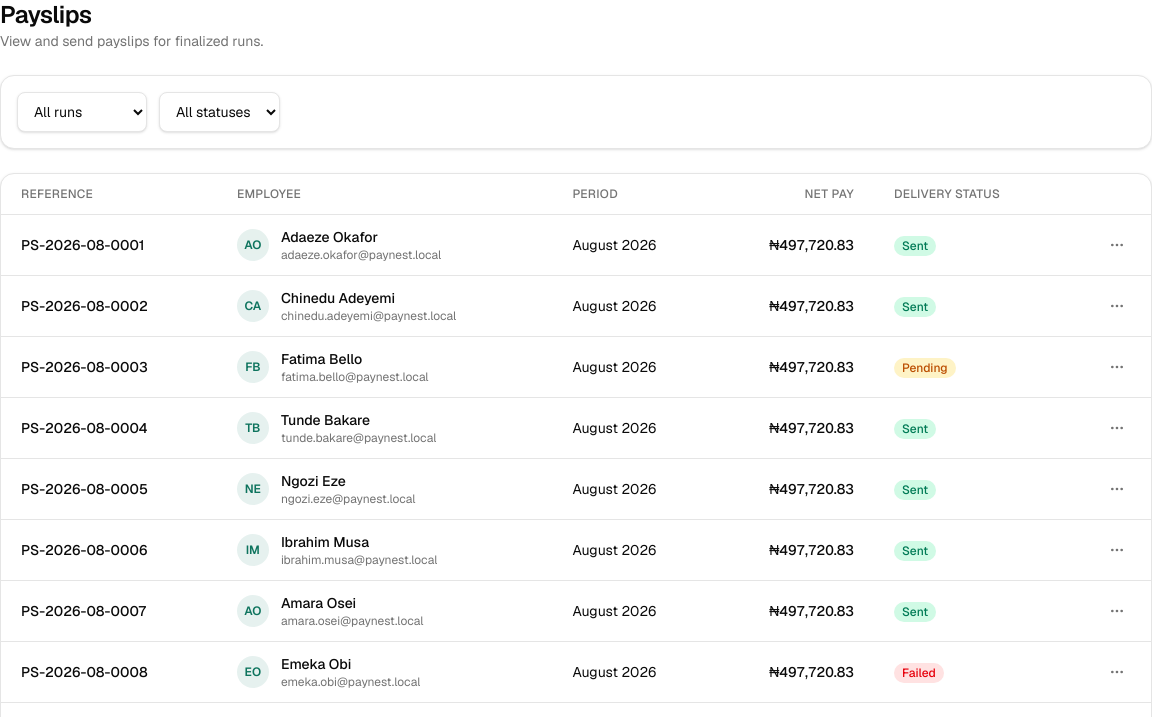
payslips list › clears filters
The image size is (1152, 717).
Select "Sent" in the dropdown named "Filter payslips by delivery status" at x=220, y=112, box top-left (159, 92), bottom-right (280, 132)
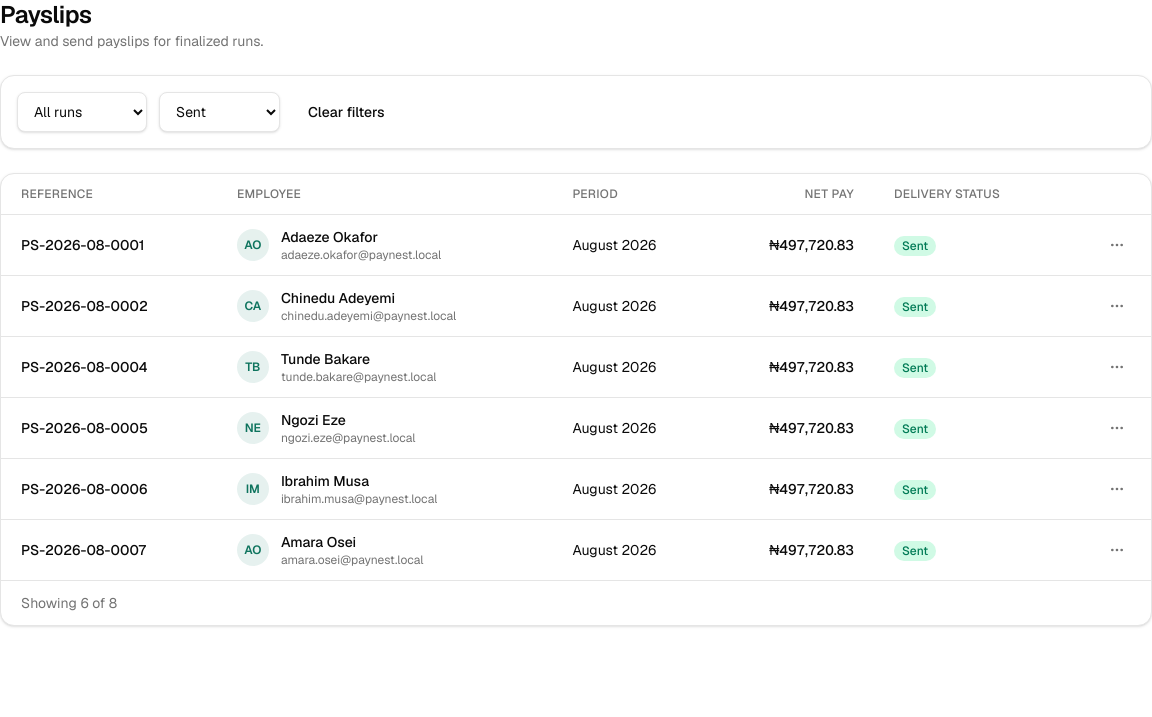
Click the button "Clear filters" at x=346, y=112, box top-left (292, 94), bottom-right (400, 130)
(page scrolled)
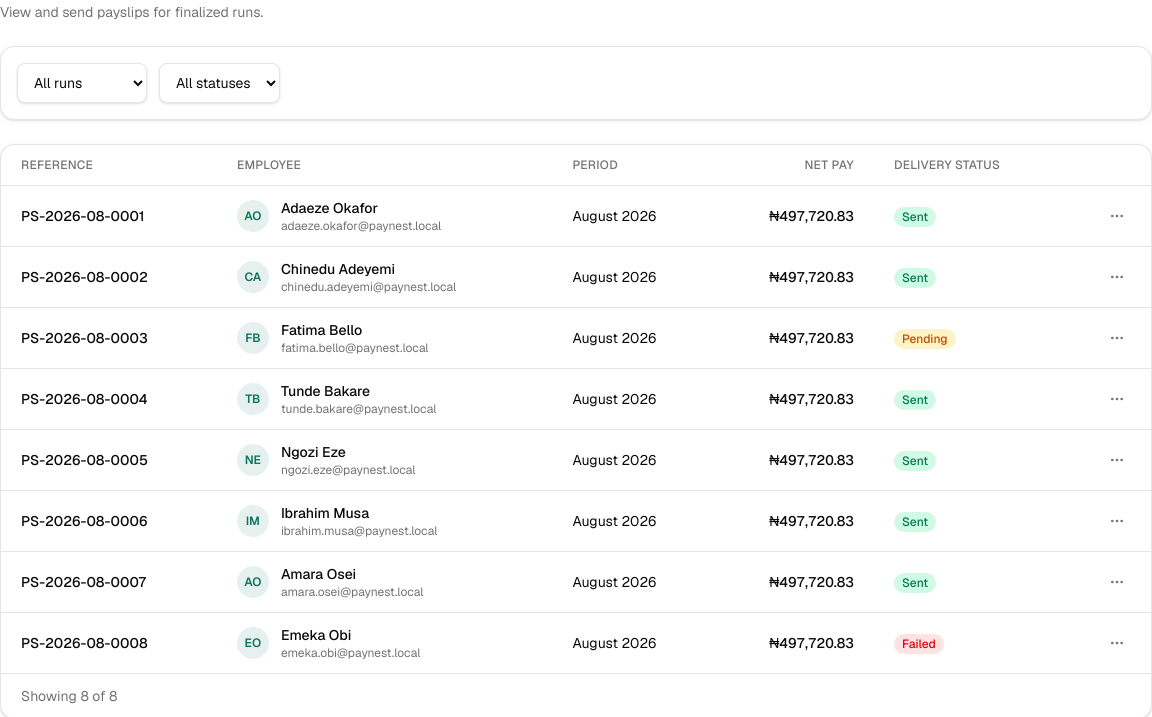
Expected: the text "Showing 8 of 8" is shown, top-left (21, 687), bottom-right (118, 705)
